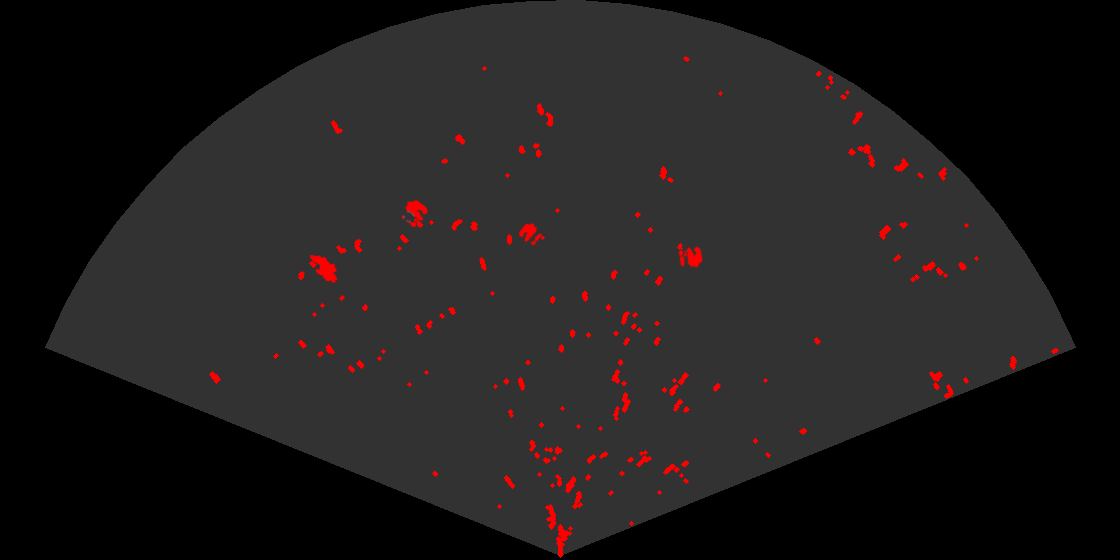AUV: (308, 253, 339, 285)
ball: (400, 198, 430, 229), (517, 222, 544, 247), (677, 245, 704, 269)
